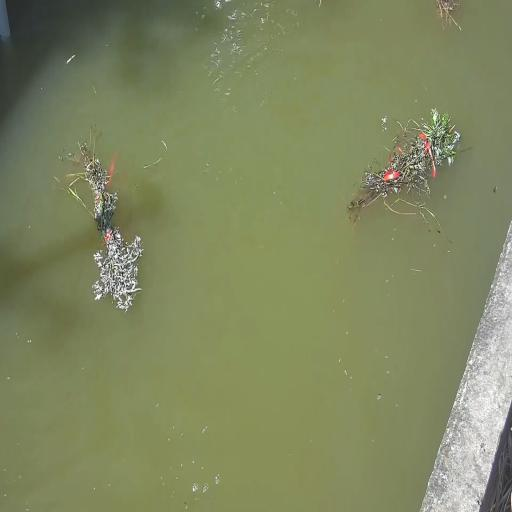twig: (57, 128, 145, 309), (347, 108, 464, 236), (433, 1, 462, 32)
